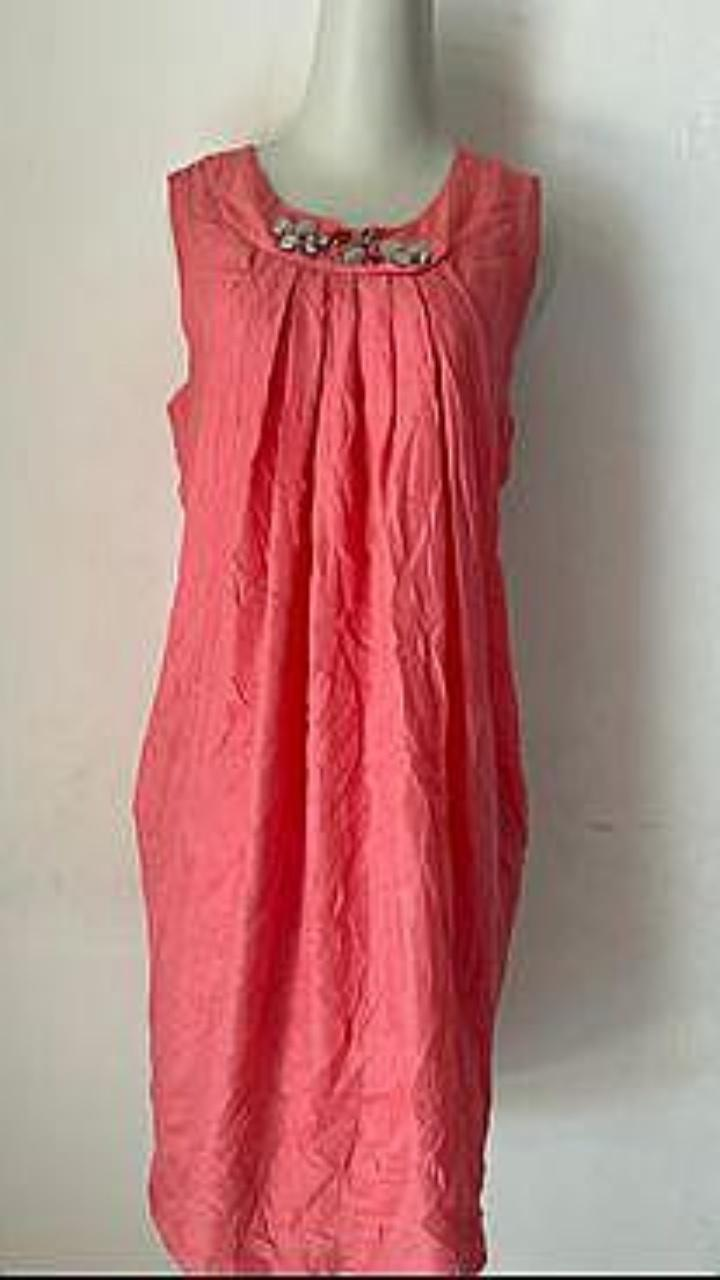Dresses: (133, 143, 540, 1273)
